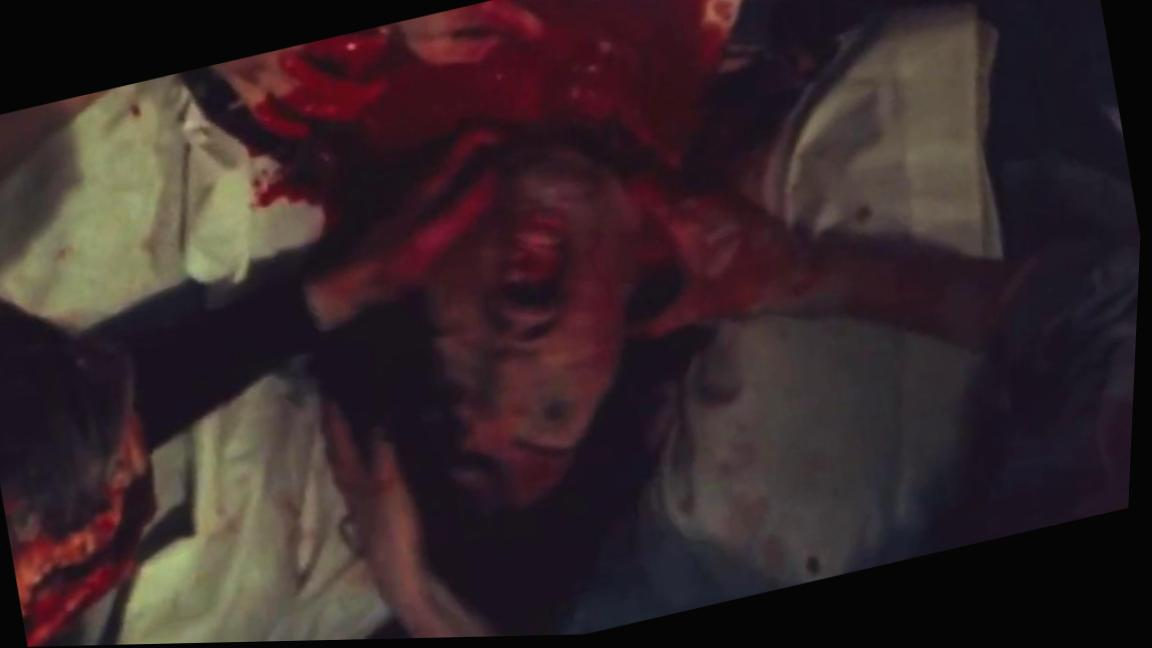Fire: (181, 0, 790, 528), (17, 446, 154, 647)
